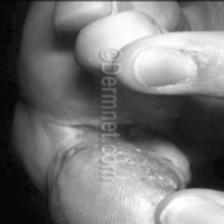Toxin: (118, 143, 176, 196), (52, 114, 96, 169), (132, 208, 164, 224)
